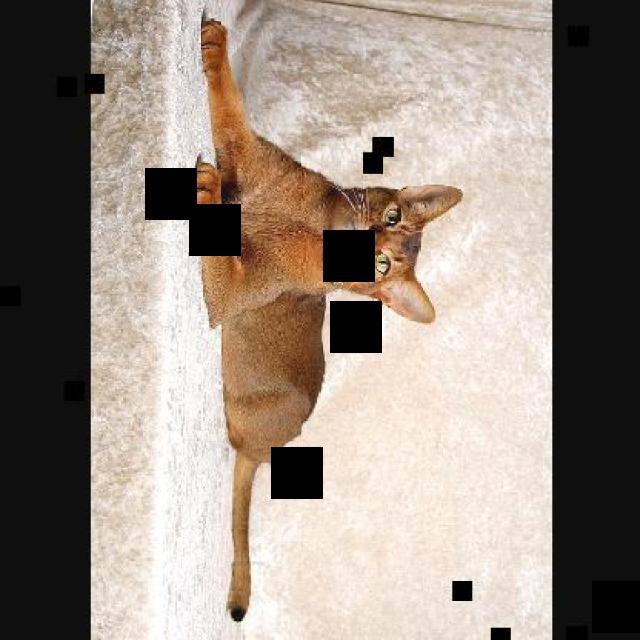unauthorized: (192, 17, 463, 621)
